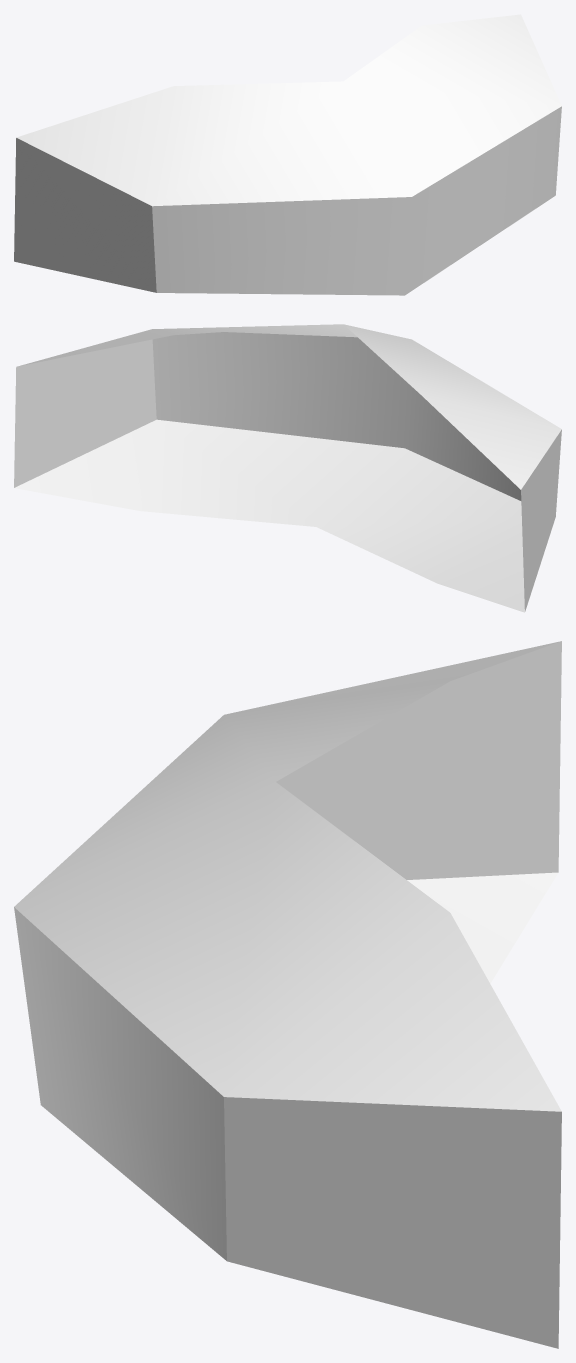
Rendered from Male_Mustache_01_v3.fbx.
3 views of the same model, one above another, from view 1: azimuth 30°, elevation 25°; view 2: azimuth 150°, elevation 25°; view 3: azimuth 270°, elevation 25° (orthographic). The views are drawn at different scales.
Visible parts, largest first — view 1: Male_Mustache_01_v3; view 2: Male_Mustache_01_v3; view 3: Male_Mustache_01_v3.
Part boxes in pixels (left/top/right/bottom): Male_Mustache_01_v3: left=14, top=14, right=561, bottom=295; Male_Mustache_01_v3: left=14, top=324, right=561, bottom=612; Male_Mustache_01_v3: left=14, top=641, right=561, bottom=1348.
Size of the model in its own units: 23.74 by 8.13 by 11.54.
